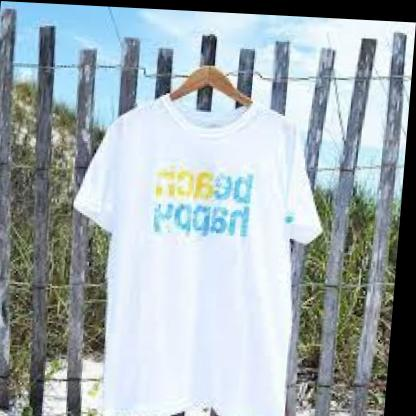Miscellaneous: (76, 52, 322, 416)
